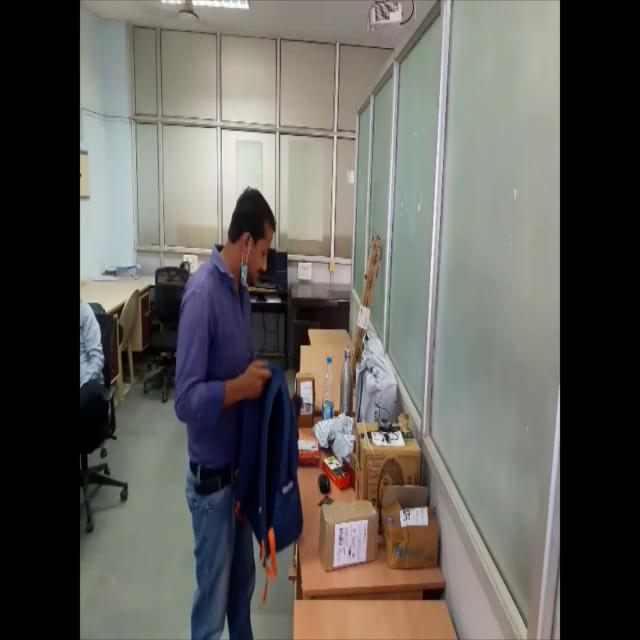shoplifting: (167, 185, 301, 637)
